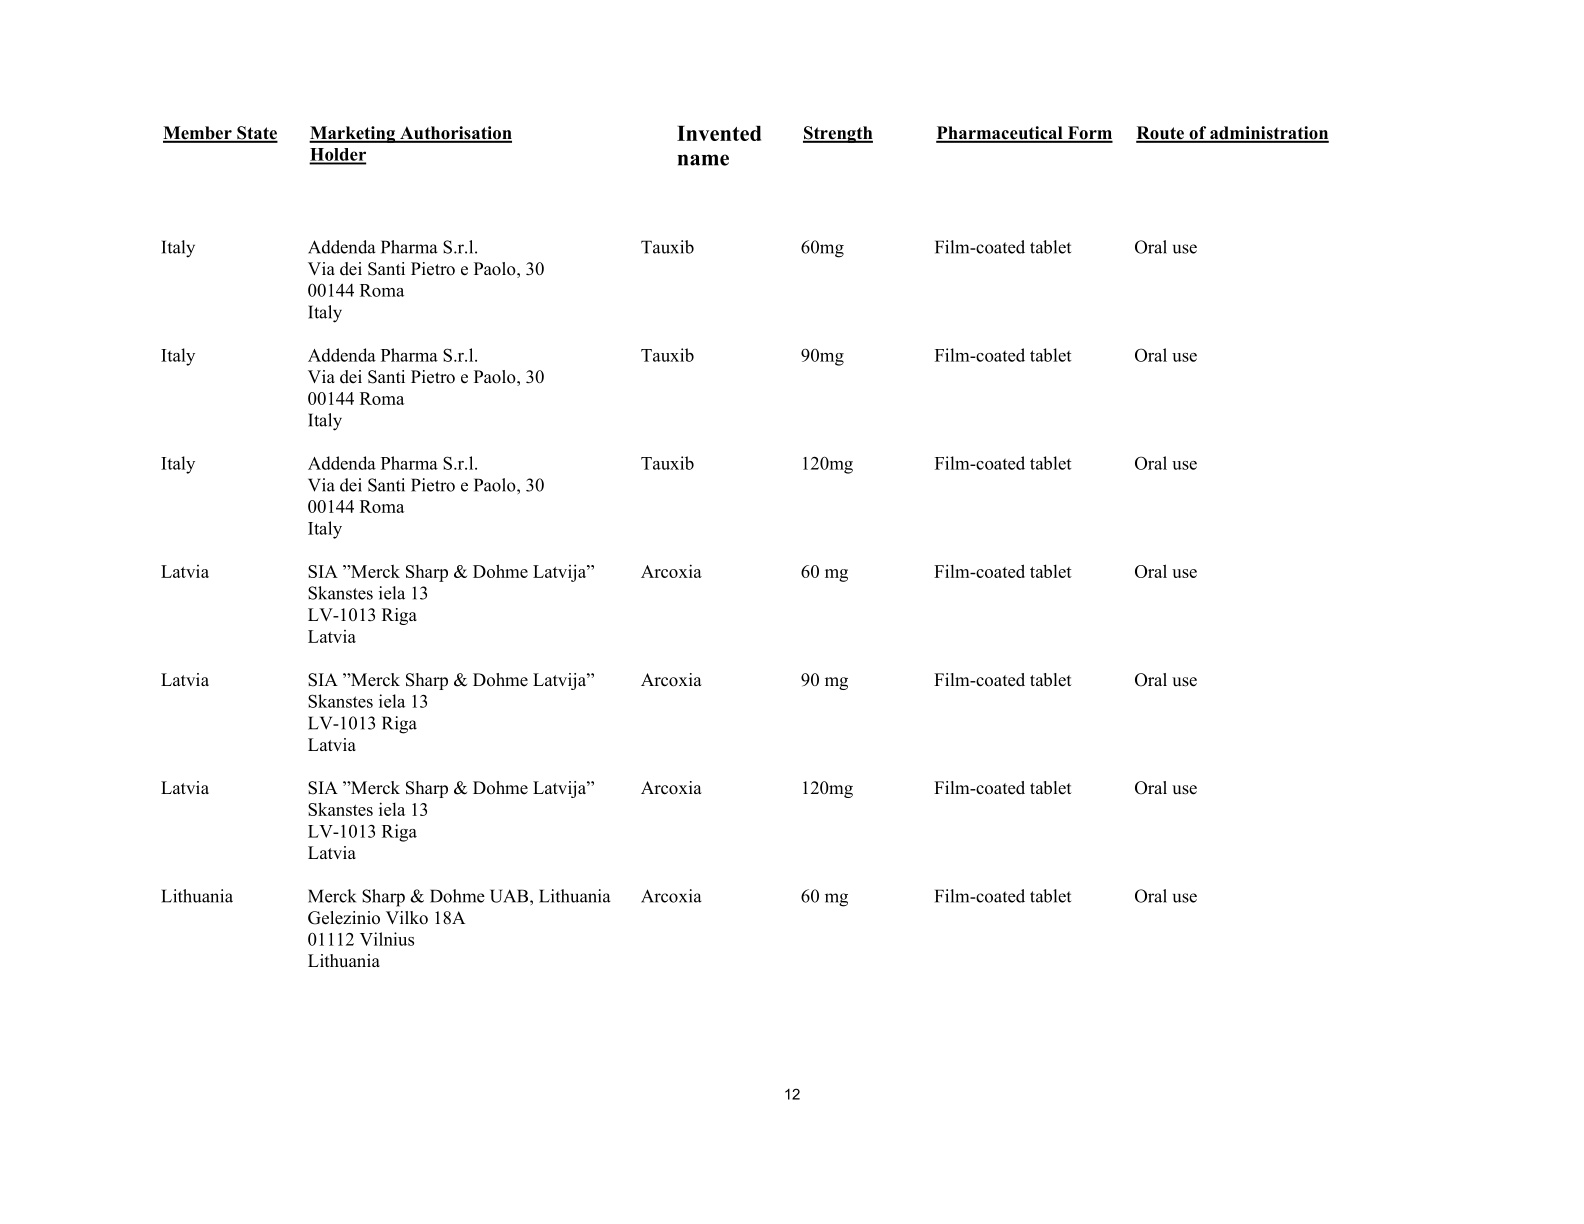nolines: (157, 121, 1329, 971)
